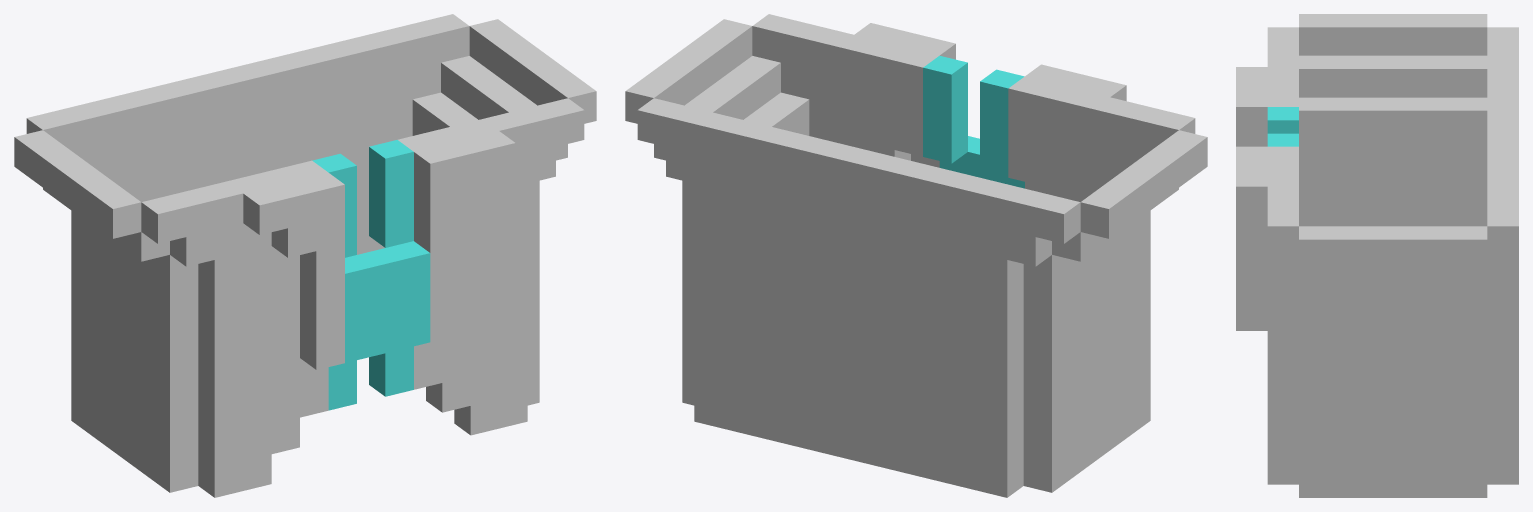
Rendered from accessories_clothes_labcoat.glb.
3 renders of one model, left to right at view 1: azimuth 30°, elevation 25°; view 2: azimuth 150°, elevation 25°; view 3: azimuth 270°, elevation 25°, orthographic. The views are drawn at different scales.
Visible parts, largest first — view 1: model_0; view 2: model_0; view 3: model_0.
Boxes of the visible parts, x1=… form: model_0: x1=14, y1=14, x2=596, y2=497; model_0: x1=625, y1=14, x2=1207, y2=497; model_0: x1=1236, y1=14, x2=1518, y2=497.
Bounding box in the file's own units: 17 × 10 × 9.
